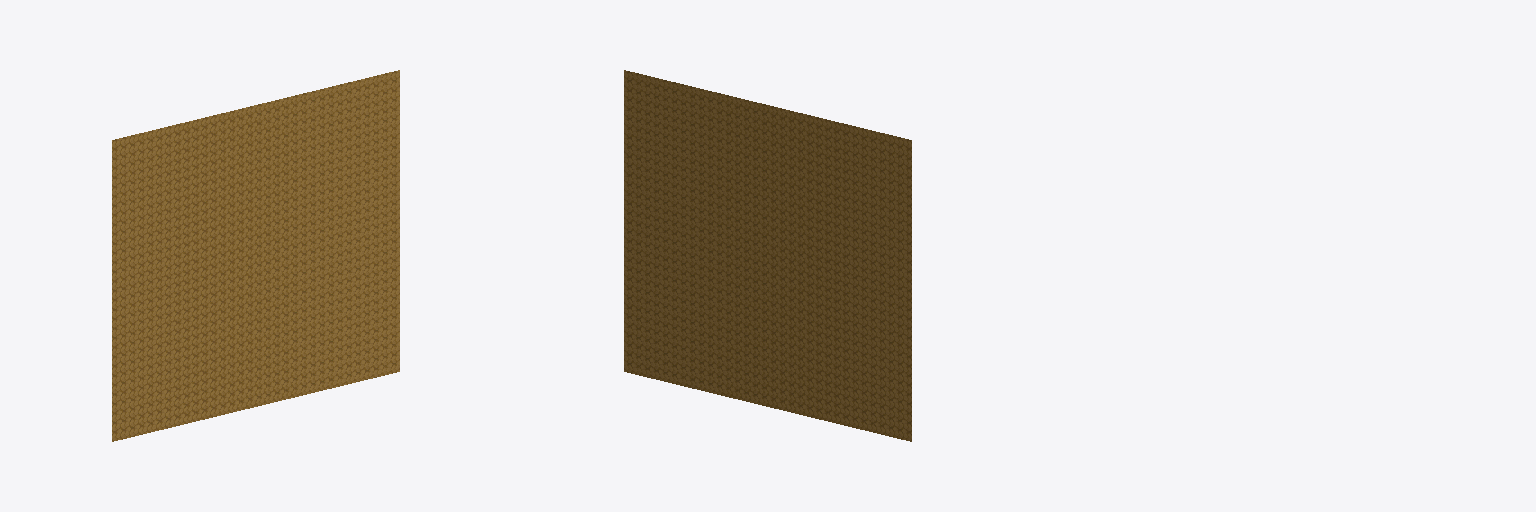
3 renders of one model, left to right at view 1: azimuth 30°, elevation 25°; view 2: azimuth 150°, elevation 25°; view 3: azimuth 270°, elevation 25°, orthographic.
Visible parts, largest first — view 1: map; view 2: map; view 3: none.
Part boxes in pixels (x1,y1,x2,y2): map: (112,70,399,441); map: (624,70,911,441).
Size of the model in its own units: 32 by 32 by 0.
Materials: 1 (1 with a texture image).